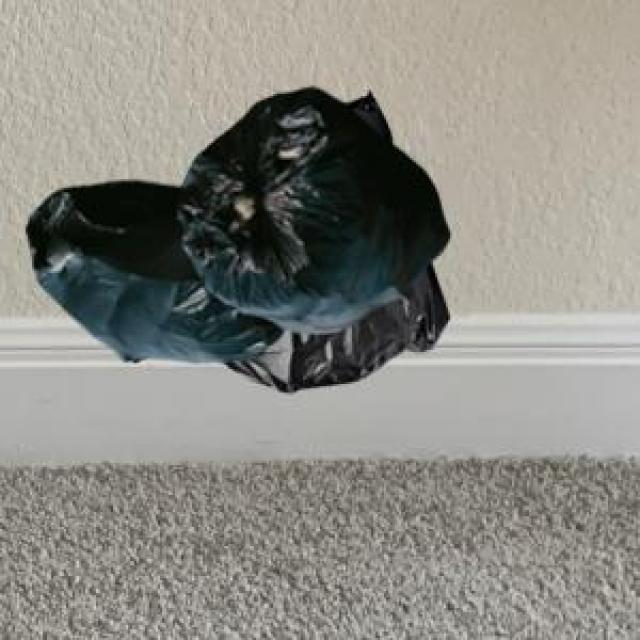waste: (26, 88, 449, 391)
